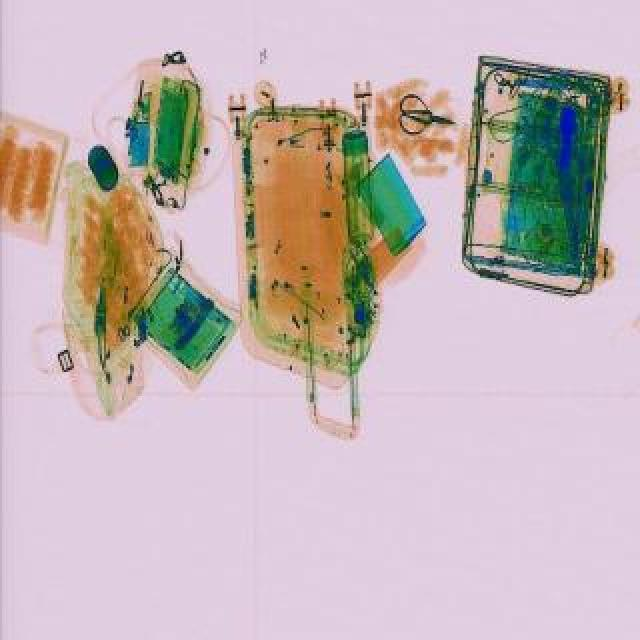pliers: (392, 96, 458, 146)
